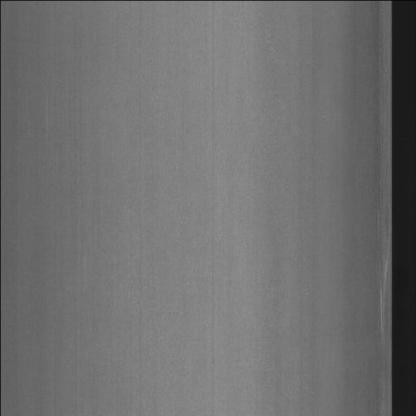silk_spot: (360, 212, 388, 357)
